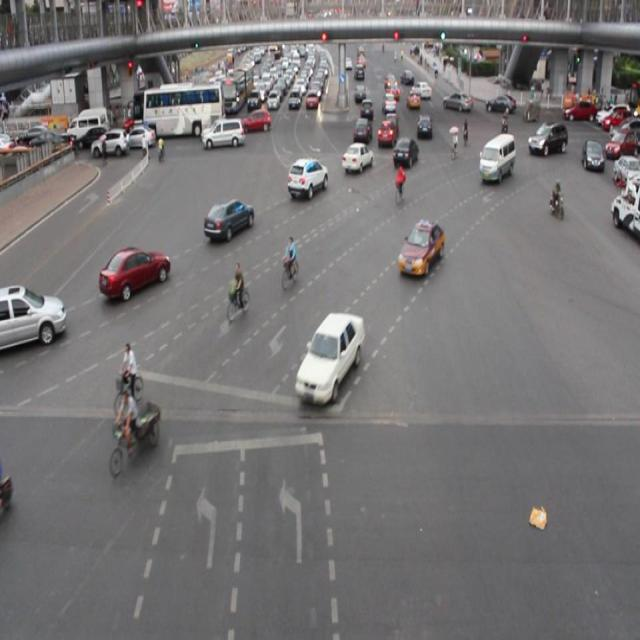car: (294, 310, 360, 401), (99, 245, 171, 299), (397, 220, 444, 278), (202, 199, 254, 242), (284, 157, 328, 200), (527, 121, 566, 159), (342, 141, 374, 175), (390, 136, 418, 170)
truck: (1, 283, 67, 348), (478, 133, 515, 182)
